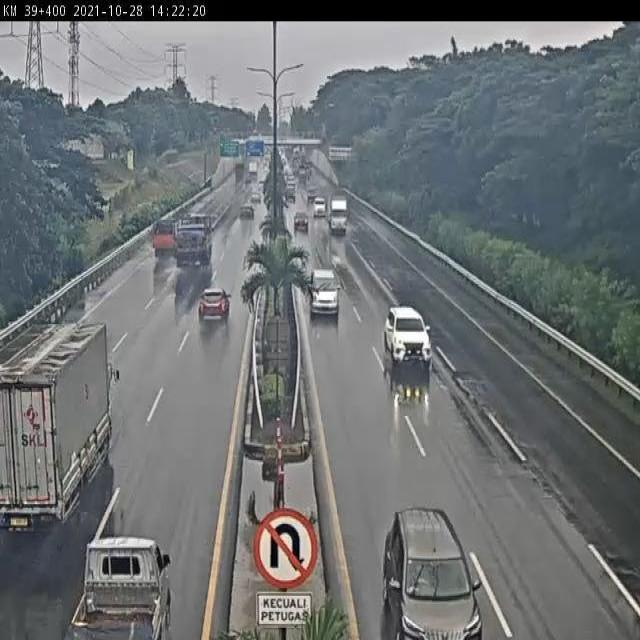ARABA: (382, 304, 432, 369), (197, 284, 232, 327), (309, 269, 341, 316), (293, 210, 312, 234), (236, 203, 257, 224), (311, 195, 327, 221)
KAMYONET: (151, 212, 179, 256), (330, 197, 350, 235)
TIR: (0, 312, 112, 525), (177, 212, 214, 271)
